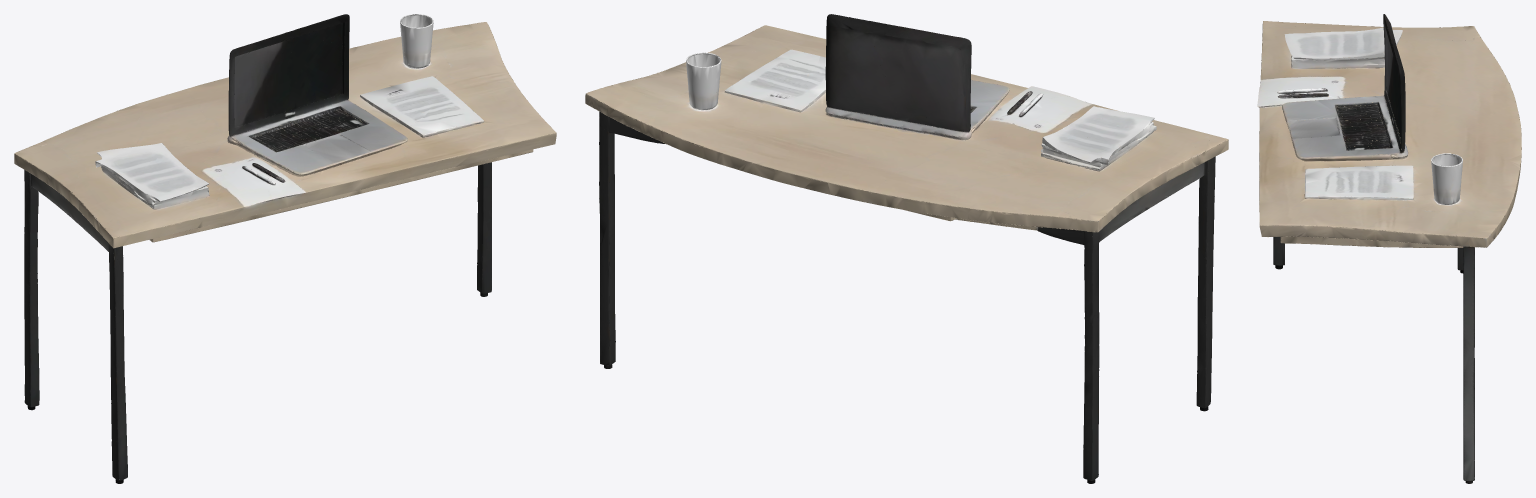
The model's file is desk.glb.
3 views of the same model, side by side, from view 1: azimuth 30°, elevation 25°; view 2: azimuth 150°, elevation 25°; view 3: azimuth 270°, elevation 25° (orthographic). The views are drawn at different scales.
Visible parts, largest first — view 1: model; view 2: model; view 3: model.
Boxes of the visible parts, box(x1,y1,x2,y2) form: model: box(14, 14, 556, 483); model: box(585, 14, 1228, 483); model: box(1257, 14, 1521, 483).
Size of the model in its own units: 1.9 by 1.3 by 0.9354.
Materials: 1 (1 with a texture image).
